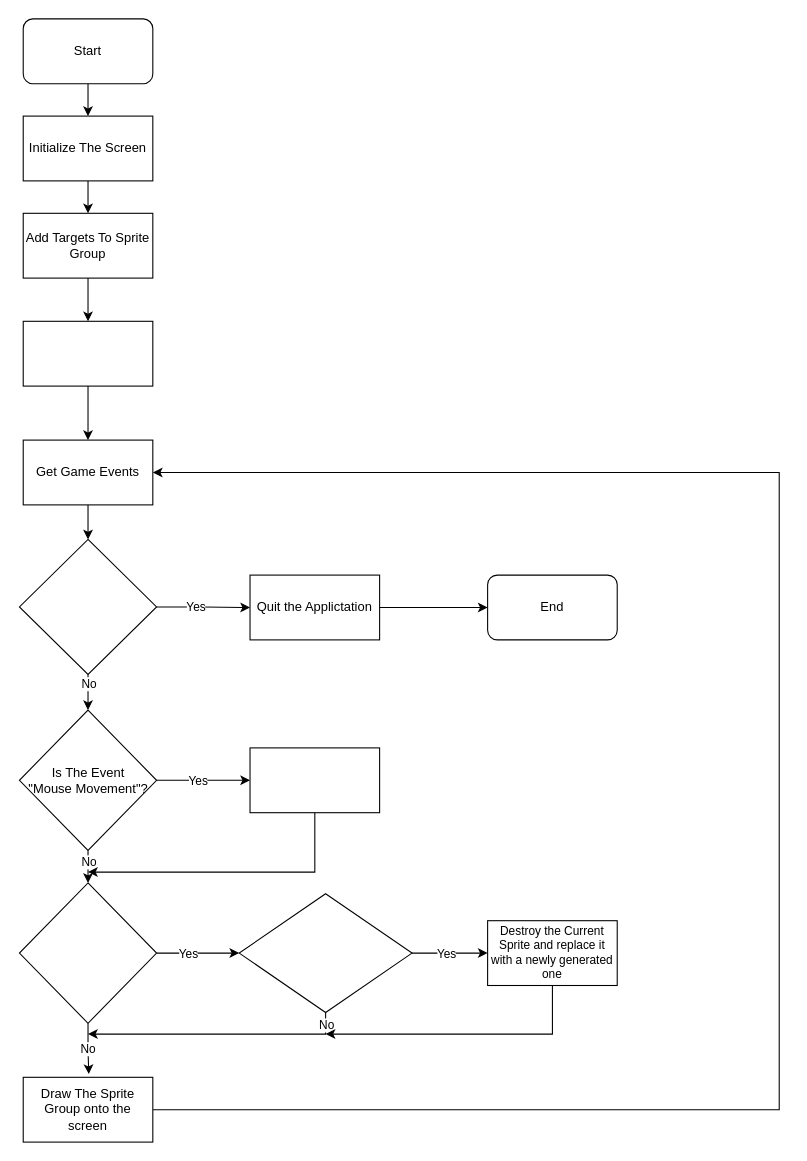
Some shapes in this 807 by 1161 pixel diagram are drawn without their labels. The centre of each missing label's shape, as x and y in pixels:
Does The Sprite Collide with the sprite: pixel 325 953
Is The Event "Mouse Button Down"?: pixel 87 952
Is The Event "Quit"?: pixel 87 606
Set The Variables x and y to the current mouse x and y positions: pixel 314 780
Start Game Loop: pixel 87 353
